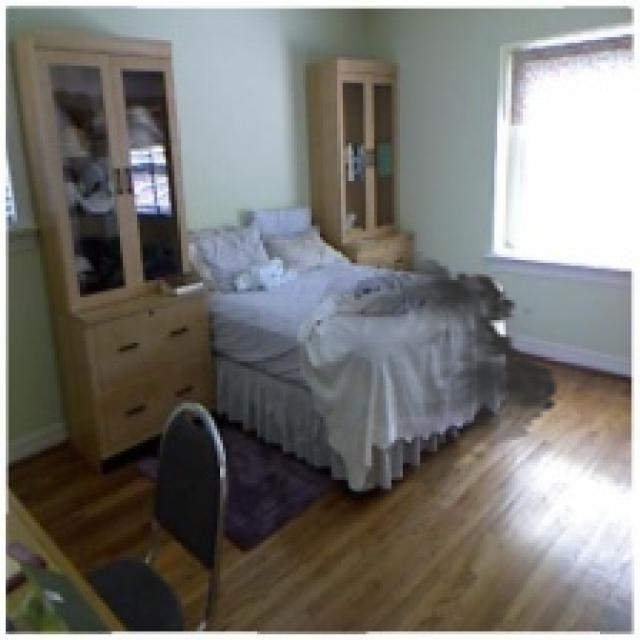Smoke: (306, 252, 568, 494)
